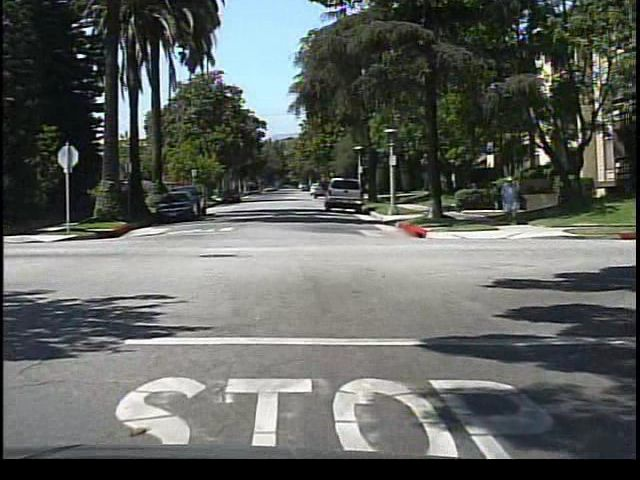person: (495, 172, 524, 227)
